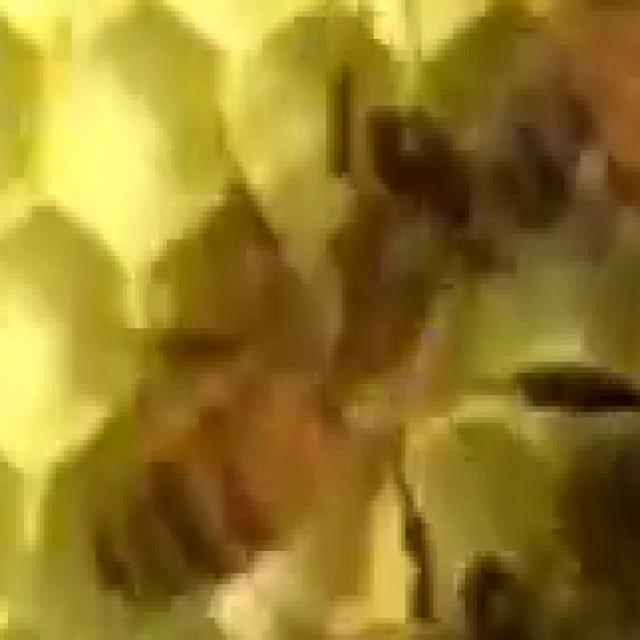honeybee: (90, 84, 482, 640), (474, 49, 627, 286), (453, 451, 640, 640)
